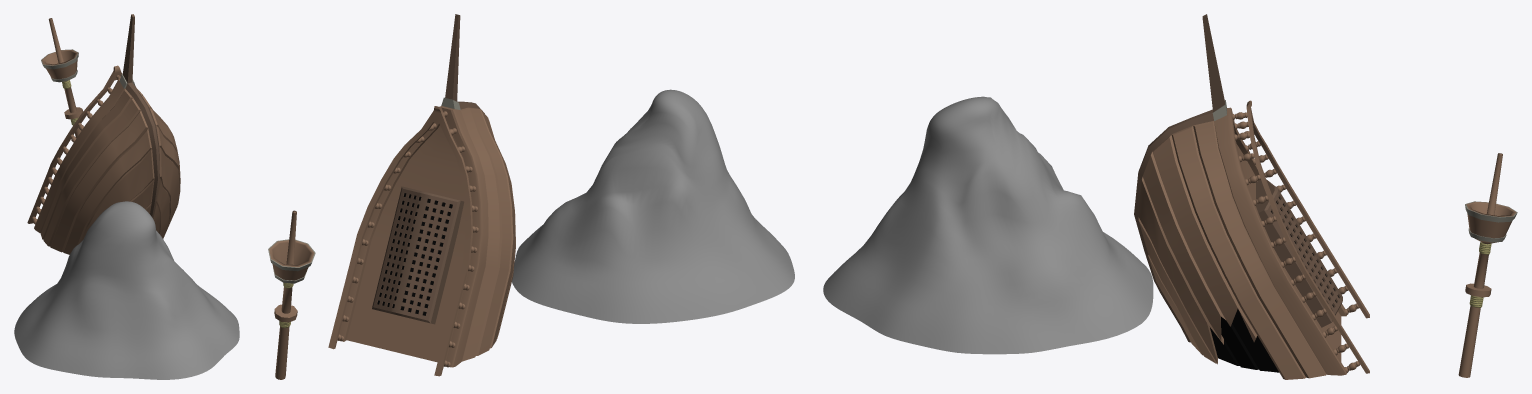
The model's file is Island4_final.fbx.
The picture shows the model from 3 angles, left to right: view 1: azimuth 30°, elevation 25°; view 2: azimuth 150°, elevation 25°; view 3: azimuth 270°, elevation 25°; orthographic projection. The views are drawn at different scales.
Visible parts, largest first — view 1: polySurface724; view 2: polySurface724; view 3: polySurface724.
Boxes of the visible parts, x1,y1,x2,y2 form: polySurface724: (14,14,239,379); polySurface724: (268,14,794,379); polySurface724: (823,14,1517,379).
Bounding box in the file's own units: 2578 × 2461 × 4683.
